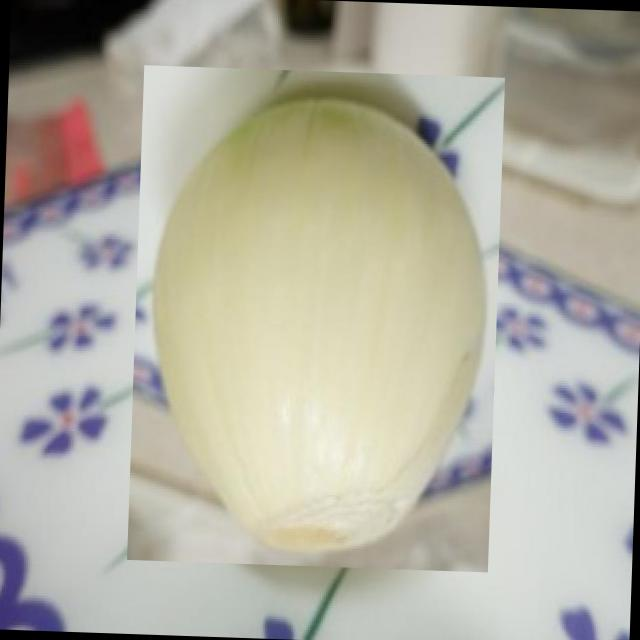Onion: (126, 65, 504, 572)
